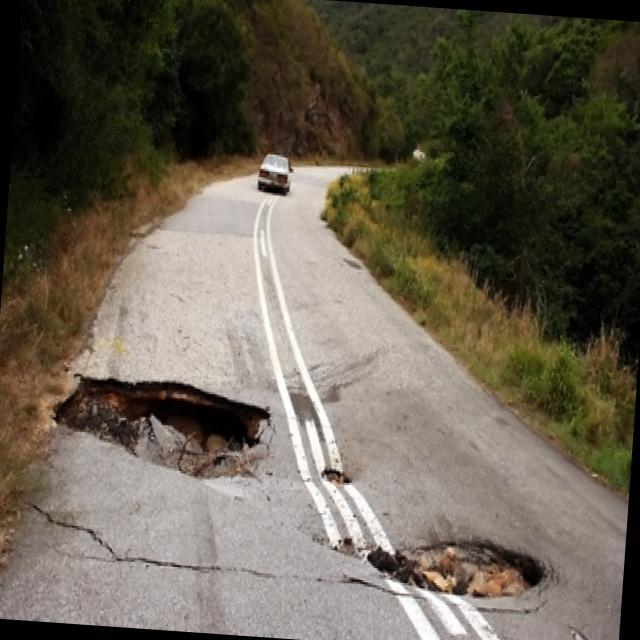Pothole: (35, 344, 314, 512), (309, 490, 592, 615), (312, 454, 358, 489)
